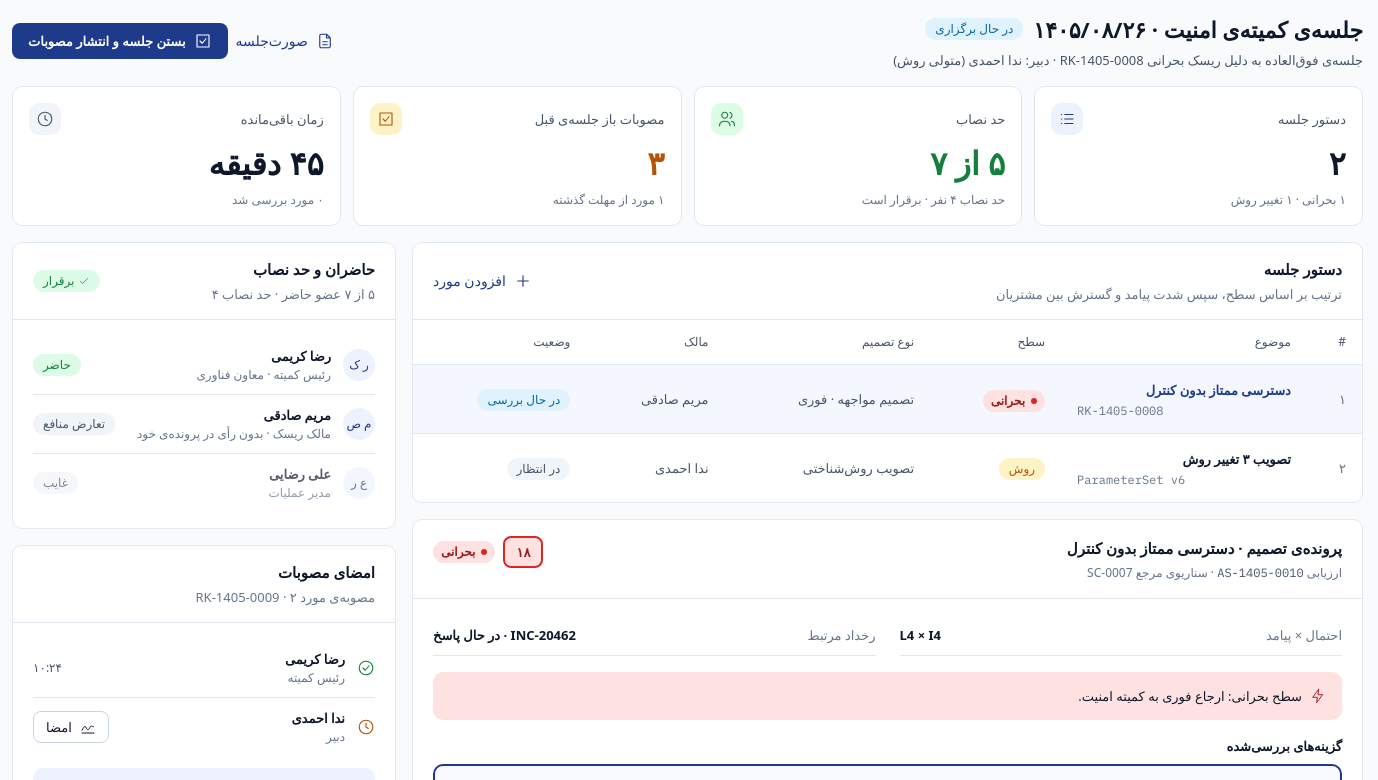
Test case: CommitteePage › selects another agenda item through the address
What coordinates should you click on to do the following:
click the button "تصویب ۳ تغییر روش"
I would click on:
 (1237, 459)
Its box is [1182,449,1291,469].
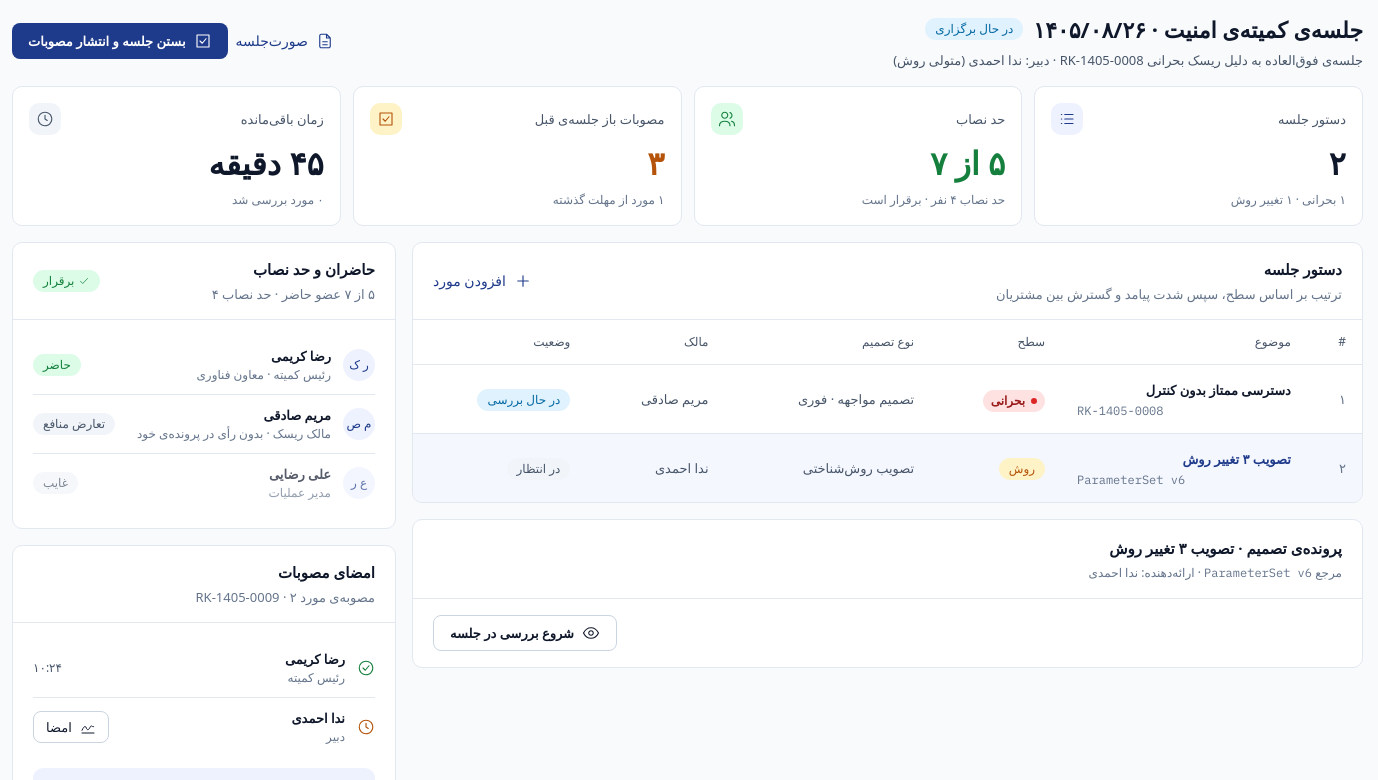
Now the heading "پرونده‌ی تصمیم · تصویب ۳ تغییر روش" is shown, box [1089,536,1342,560]
Now the button "شروع بررسی در جلسه" is shown, box [433,615,617,651]
